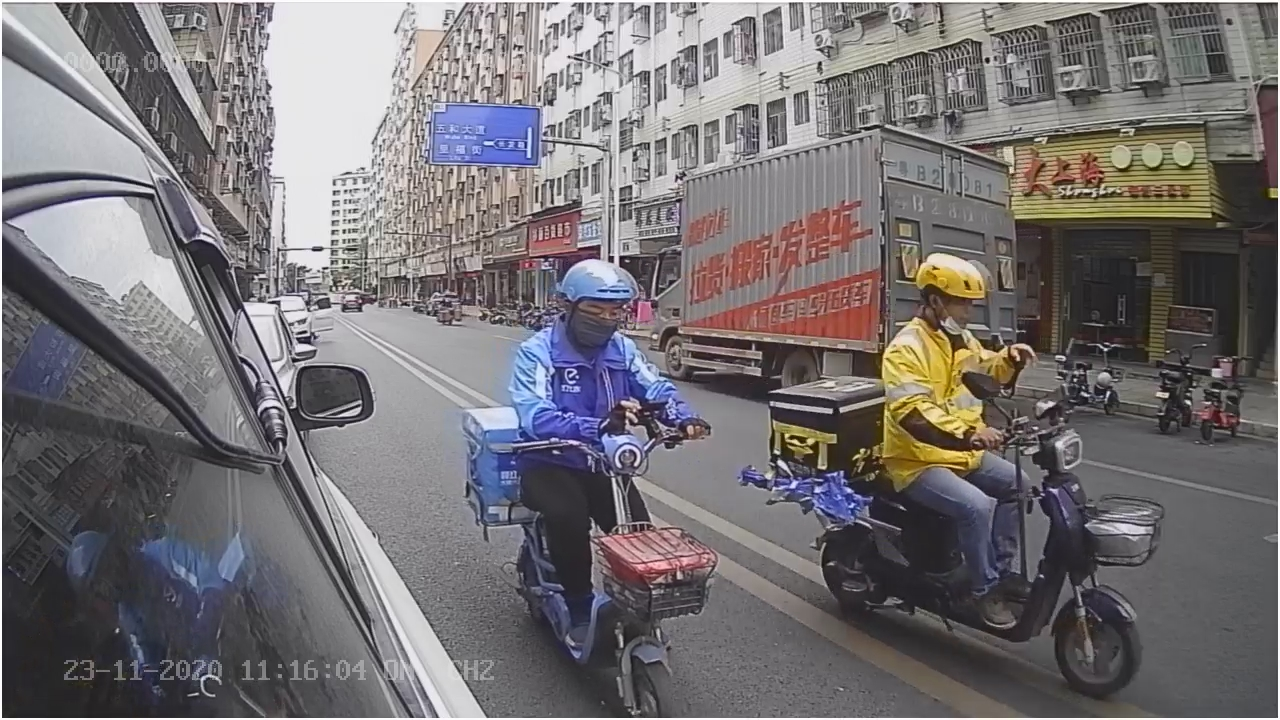person: (510, 255, 721, 428), (875, 244, 1042, 404)
